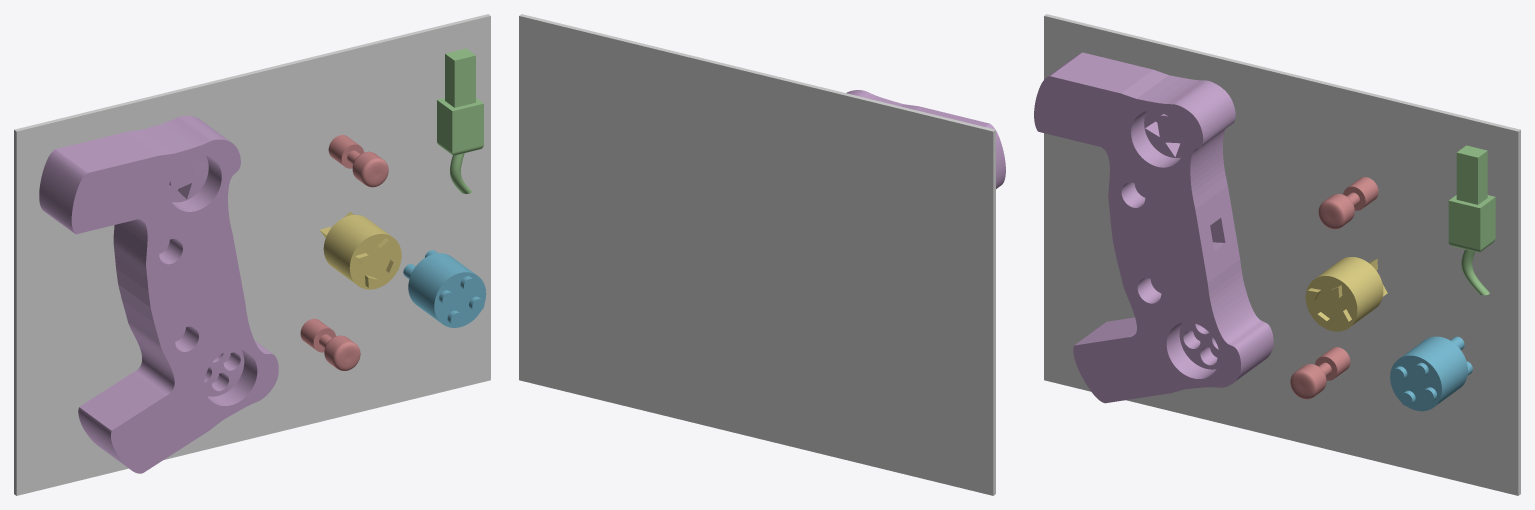
File: pickup_layout.glb
3 renders of one model, left to right at view 1: azimuth 30°, elevation 25°; view 2: azimuth 150°, elevation 25°; view 3: azimuth 330°, elevation 25°, orthographic.
Parts seen in each view (by area): view 1: world, 3.obj, 4.obj, 2.obj, 1.obj, 0.obj, 5.obj; view 2: world, 3.obj; view 3: world, 3.obj, 4.obj, 2.obj, 1.obj, 5.obj, 0.obj.
Part boxes in pixels (x1,y1,x2,y2): world: [14, 14, 490, 495]; 3.obj: [39, 115, 278, 473]; 4.obj: [437, 48, 483, 193]; 2.obj: [403, 250, 486, 327]; 1.obj: [319, 212, 401, 289]; 0.obj: [328, 135, 388, 187]; 5.obj: [300, 318, 360, 370]; world: [519, 14, 995, 495]; 3.obj: [846, 90, 1005, 188]; world: [1044, 14, 1520, 495]; 3.obj: [1034, 52, 1273, 403]; 4.obj: [1448, 145, 1495, 295]; 2.obj: [1390, 336, 1472, 411]; 1.obj: [1305, 257, 1387, 331]; 5.obj: [1290, 347, 1350, 399]; 0.obj: [1318, 177, 1378, 229].
Size of the model in its own units: 21.04 by 15.45 by 3.2.
